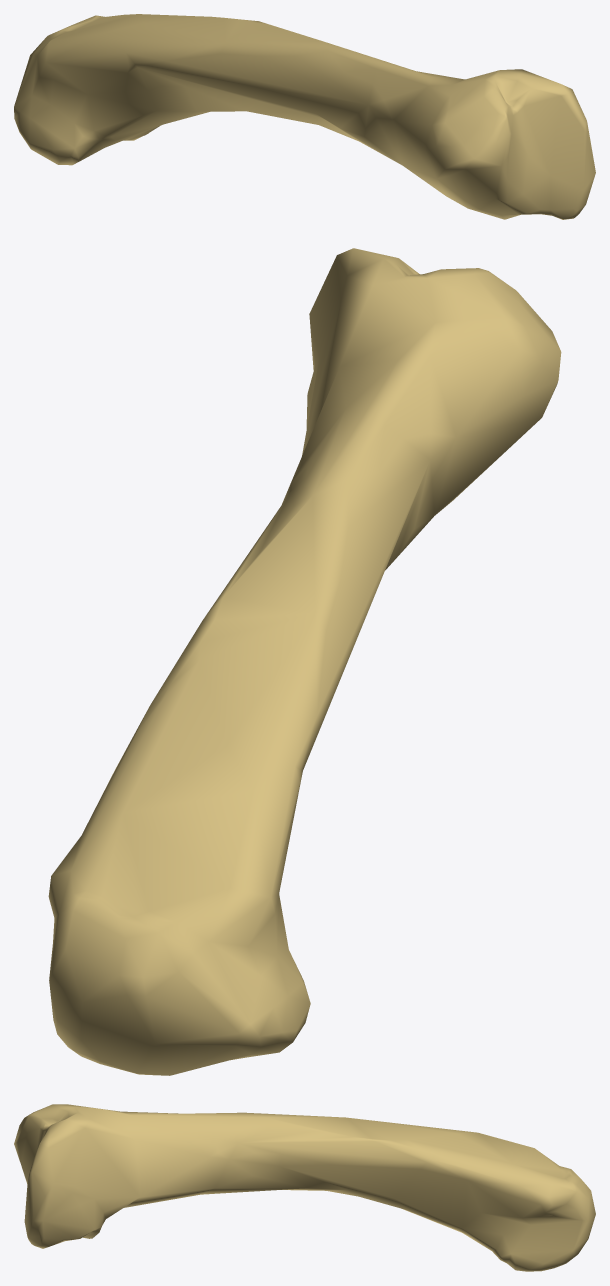
The picture shows the model from 3 angles, top to bottom: view 1: azimuth 30°, elevation 25°; view 2: azimuth 150°, elevation 25°; view 3: azimuth 270°, elevation 25°; orthographic projection. The views are drawn at different scales.
Parts seen in each view (by area): view 1: 右侧第二掌骨; view 2: 右侧第二掌骨; view 3: 右侧第二掌骨.
Part boxes in pixels (left/top/right/bottom): 右侧第二掌骨: left=14, top=14, right=595, bottom=219; 右侧第二掌骨: left=48, top=248, right=561, bottom=1075; 右侧第二掌骨: left=14, top=1104, right=595, bottom=1271.
Size of the model in its own units: 0.0473 by 0.0393 by 0.1039.
